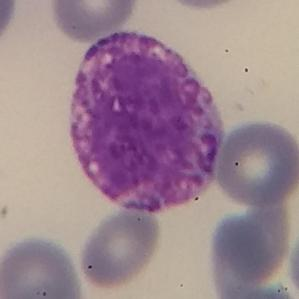Basophil: (58, 20, 233, 223)
RBC: (212, 116, 299, 207), (76, 206, 164, 290), (0, 232, 87, 299), (202, 219, 271, 296), (243, 195, 290, 278), (48, 0, 138, 42), (220, 282, 299, 299), (285, 224, 298, 299), (162, 0, 248, 11), (0, 0, 20, 47)
